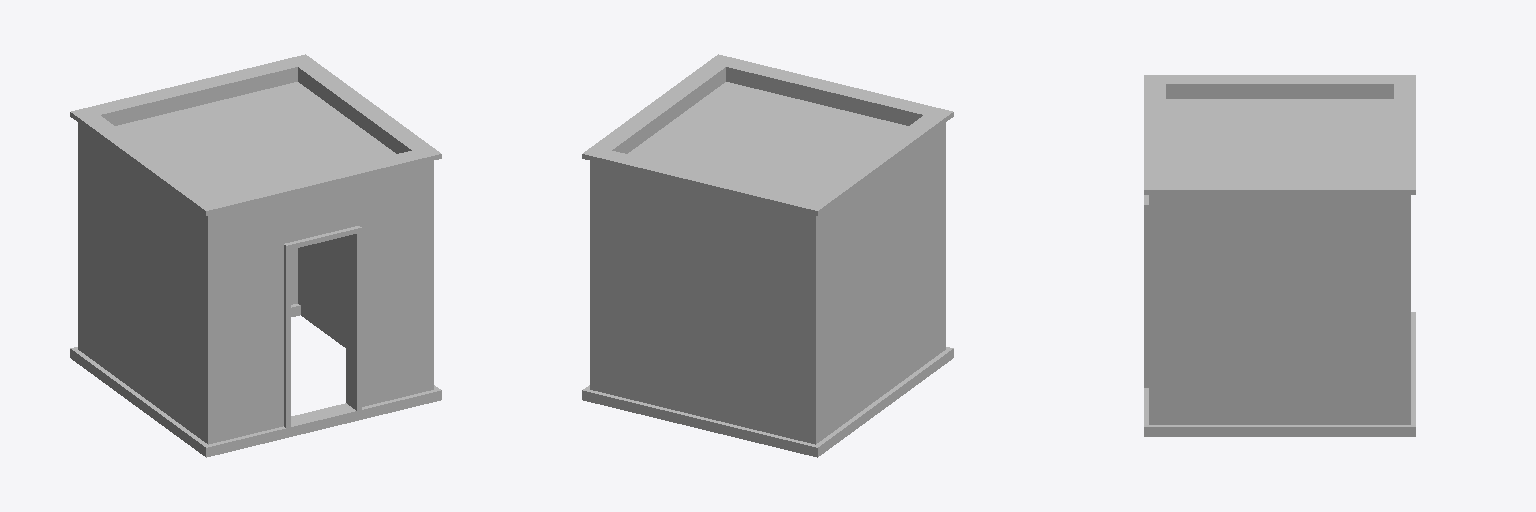
Rendered from closet.obj.
3 renders of one model, left to right at view 1: azimuth 30°, elevation 25°; view 2: azimuth 150°, elevation 25°; view 3: azimuth 270°, elevation 25°, orthographic.
Visible parts, largest first — view 1: object 1; view 2: object 1; view 3: object 1.
Boxes of the visible parts, <box> form: object 1: <box>70,54,441,457</box>; object 1: <box>582,54,953,457</box>; object 1: <box>1144,75,1415,436</box>.
Bounding box in the file's own units: 5 × 5 × 5.